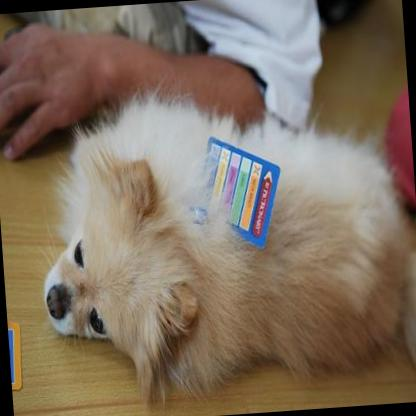Pomeranian: (26, 64, 416, 416)
